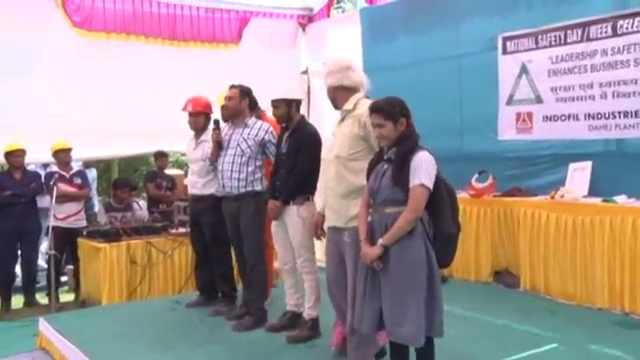helmet: (178, 98, 217, 117), (0, 139, 28, 158), (268, 89, 305, 103), (47, 143, 75, 158)
helmet_off: (358, 95, 417, 155), (314, 58, 364, 103), (220, 85, 255, 124), (96, 120, 120, 157), (110, 178, 132, 206), (150, 151, 170, 178)
helmet_on: (178, 96, 215, 137), (268, 89, 306, 128), (0, 138, 29, 172), (48, 142, 75, 171)
person: (357, 83, 461, 360), (308, 59, 378, 358), (265, 90, 327, 347), (215, 82, 276, 329), (177, 97, 240, 316), (0, 140, 47, 321), (43, 136, 91, 308), (142, 149, 179, 220), (97, 178, 149, 228)
